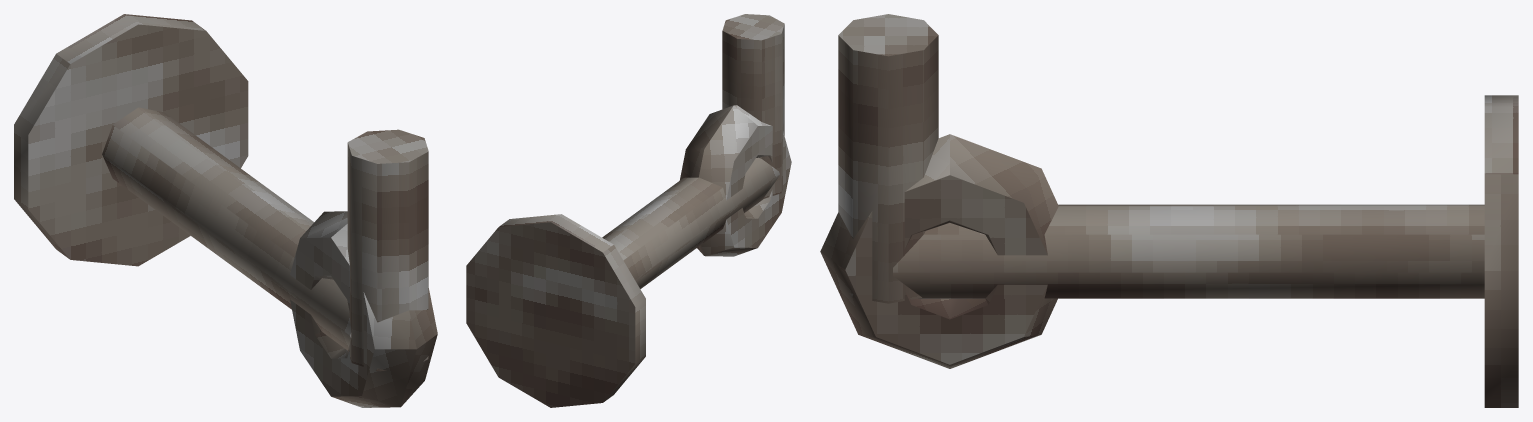
File: hook_m.glb
3 renders of one model, left to right at view 1: azimuth 30°, elevation 25°; view 2: azimuth 150°, elevation 25°; view 3: azimuth 270°, elevation 25°, orthographic. The views are drawn at different scales.
Visible parts, largest first — view 1: mesh; view 2: mesh; view 3: mesh.
Part boxes in pixels (left/top/right/bottom): mesh: left=14, top=14, right=437, bottom=407; mesh: left=466, top=14, right=791, bottom=407; mesh: left=820, top=14, right=1518, bottom=407.
Bounding box in the file's own units: 0.019 × 0.025 × 0.0439.
1 material, 1 textured.
